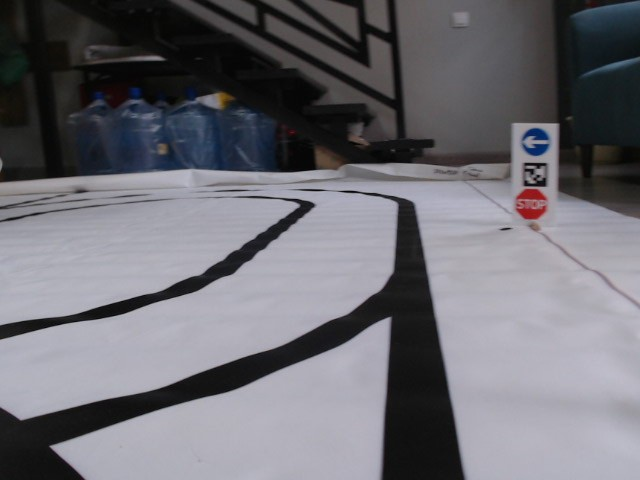Stop: (514, 187, 548, 220)
